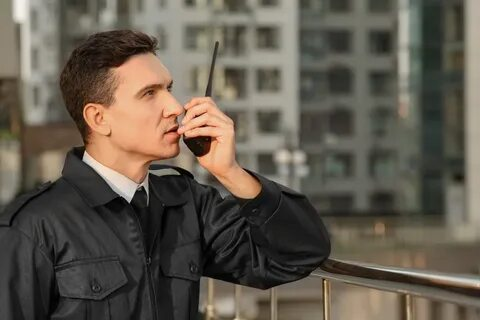awake: (1, 28, 332, 320)
